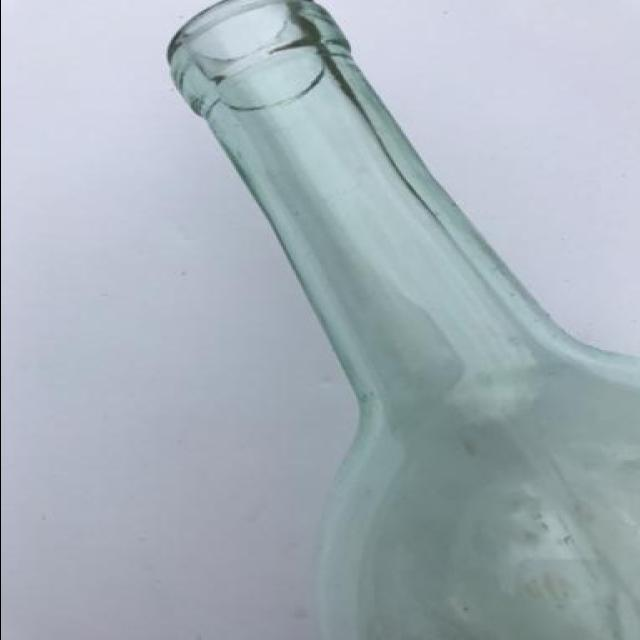Glass Bottle: (156, 1, 636, 639)
